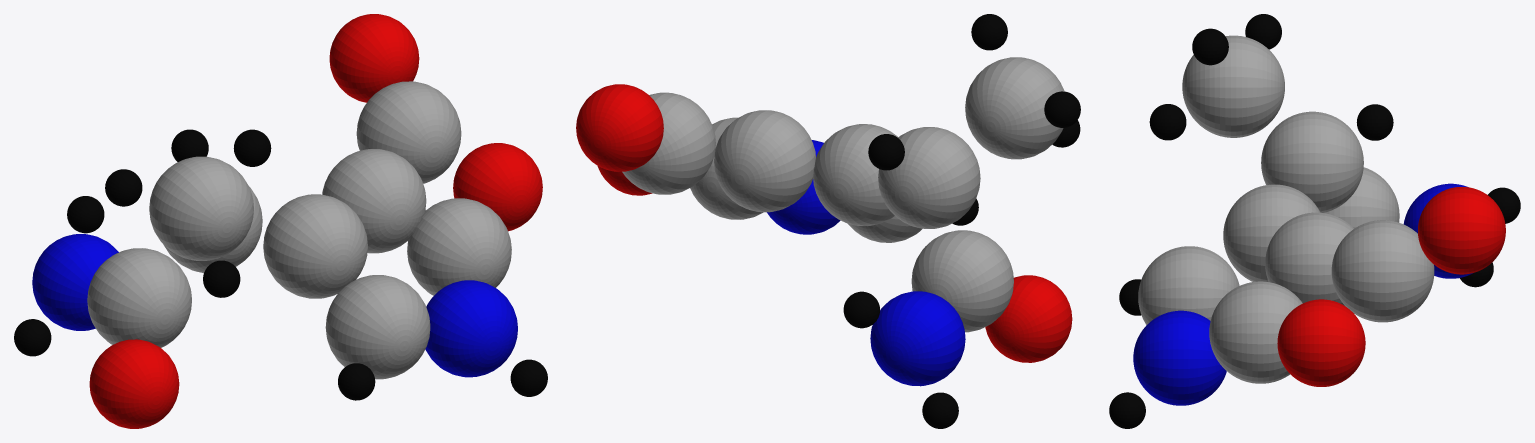
The model's file is L-theanine.glb.
3 renders of one model, left to right at view 1: azimuth 30°, elevation 25°; view 2: azimuth 150°, elevation 25°; view 3: azimuth 270°, elevation 25°, orthographic. The views are drawn at different scales.
Visible parts, largest first — view 1: world; view 2: world; view 3: world.
Boxes of the visible parts, x1,y1,x2,y2 form: world: (14, 14, 547, 428); world: (576, 14, 1080, 428); world: (1109, 14, 1520, 428).
Bounding box in the file's own units: 7.08 × 4.46 × 5.6.
